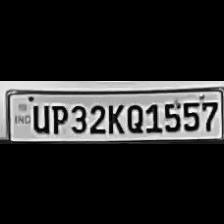1: (144, 100, 162, 132)
2: (88, 100, 104, 134)
3: (68, 101, 88, 133)
5: (160, 98, 180, 132), (180, 97, 200, 131)
7: (200, 97, 218, 130)
K: (104, 100, 122, 134)
P: (49, 100, 67, 134)
Q: (123, 101, 143, 133)
U: (29, 101, 49, 133)
